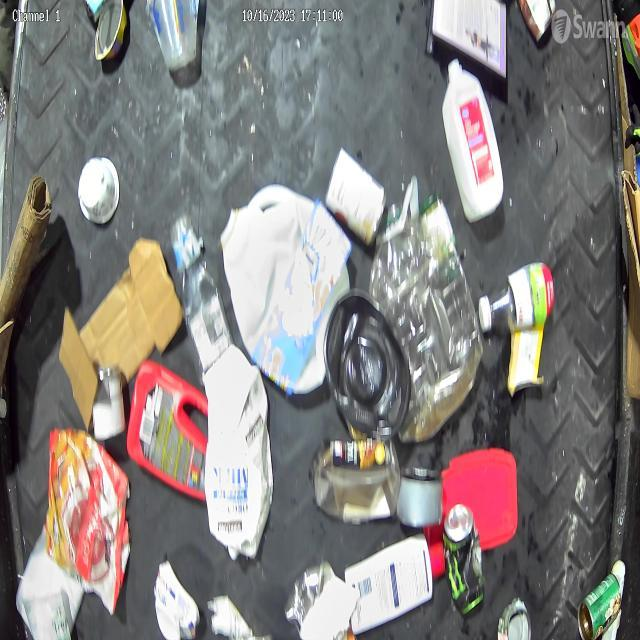can: (442, 504, 483, 618)
milk_jug: (221, 182, 353, 394)
non_white_jug: (128, 358, 208, 501)
